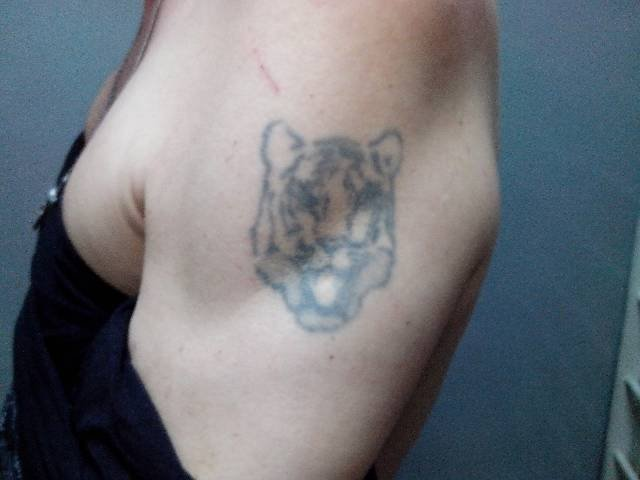tatu5_tigr: (228, 111, 420, 353)
